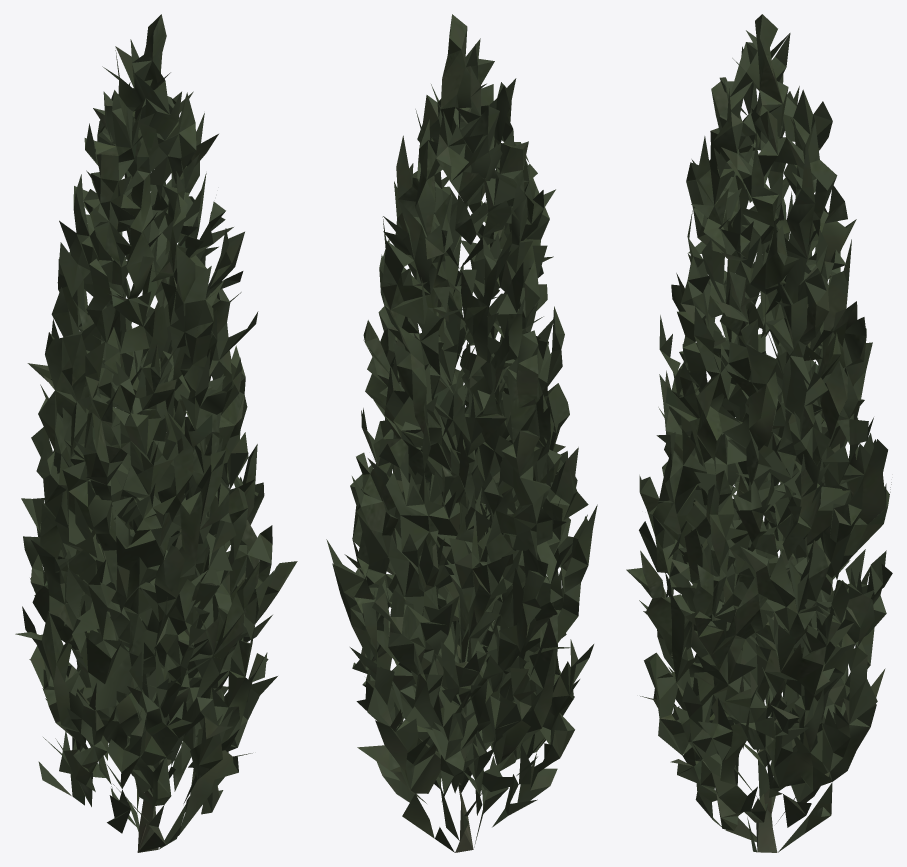
Rendered from tree_cypress.glb.
3 views of the same model, side by side, from view 1: azimuth 30°, elevation 25°; view 2: azimuth 150°, elevation 25°; view 3: azimuth 270°, elevation 25° (orthographic).
Parts seen in each view (by area): view 1: Mesh_0; view 2: Mesh_0; view 3: Mesh_0.
Boxes of the visible parts, bbox=[...] form: Mesh_0: bbox=[15, 14, 297, 852]; Mesh_0: bbox=[326, 14, 597, 852]; Mesh_0: bbox=[626, 14, 892, 852].
Size of the model in its own units: 2.38 by 8 by 2.29.
1 material, 1 textured.
